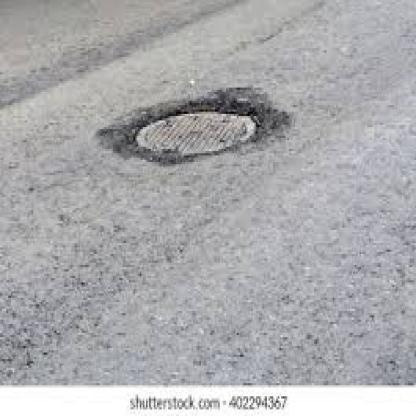manholes: (91, 59, 294, 193)
